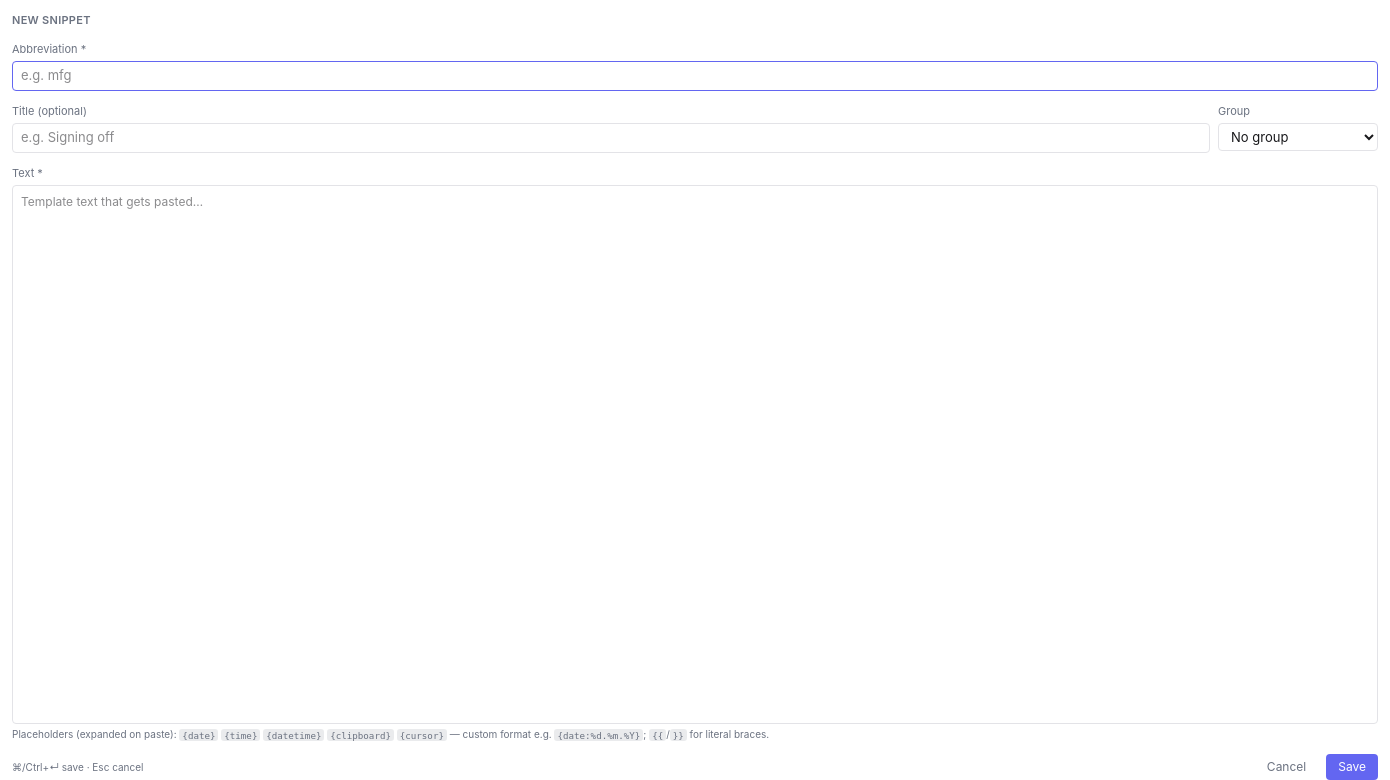
Test: SnippetEditor — validation › surfaces a backend failure instead of silently closing
Type "mfg" into the field with placeholder "e.g. mfg".
click(695, 76); type("mfg")  # box 12,61 -> 1378,90
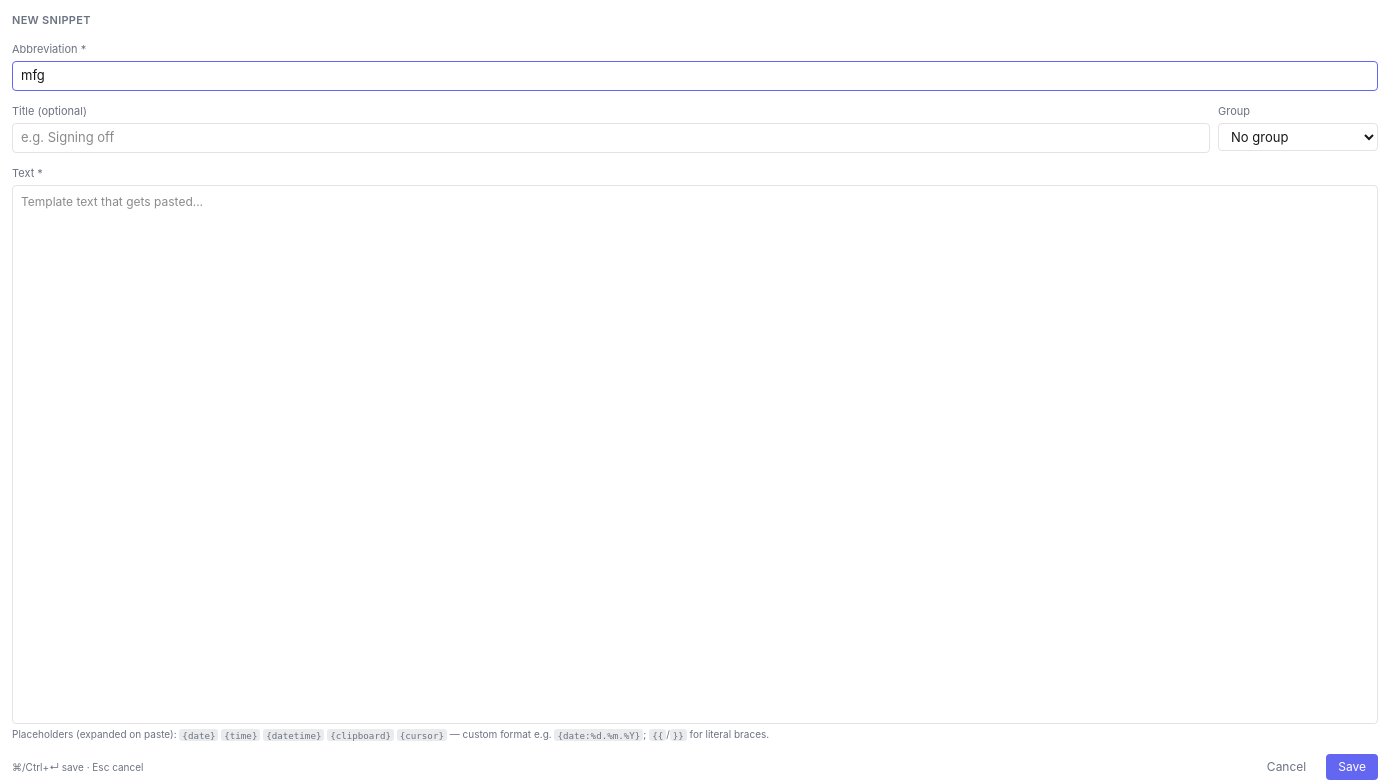
Type "body" into the text box with placeholder "Template text that gets pasted…".
click(695, 455); type("body")  # box 12,185 -> 1378,724
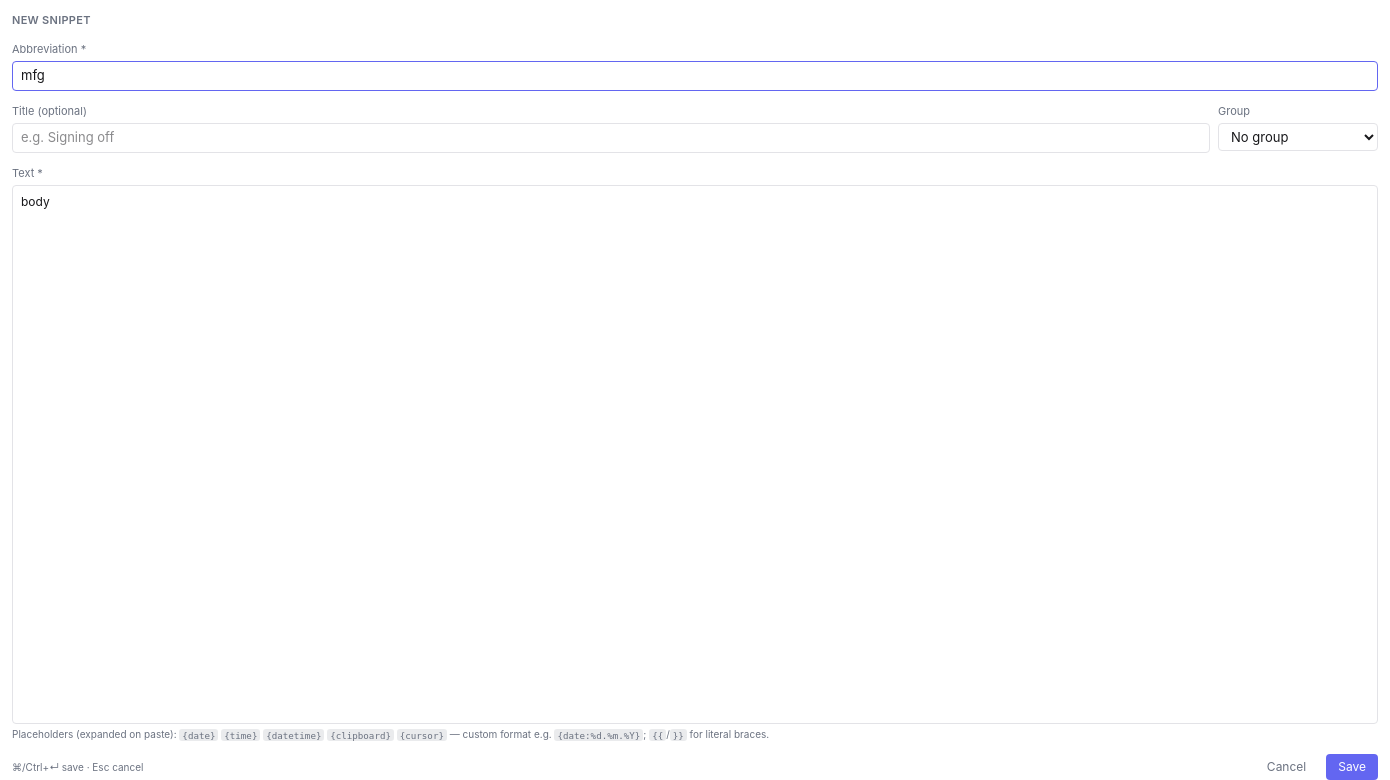
Click the button "Save".
click(1352, 767)  # box 1326,754 -> 1378,779
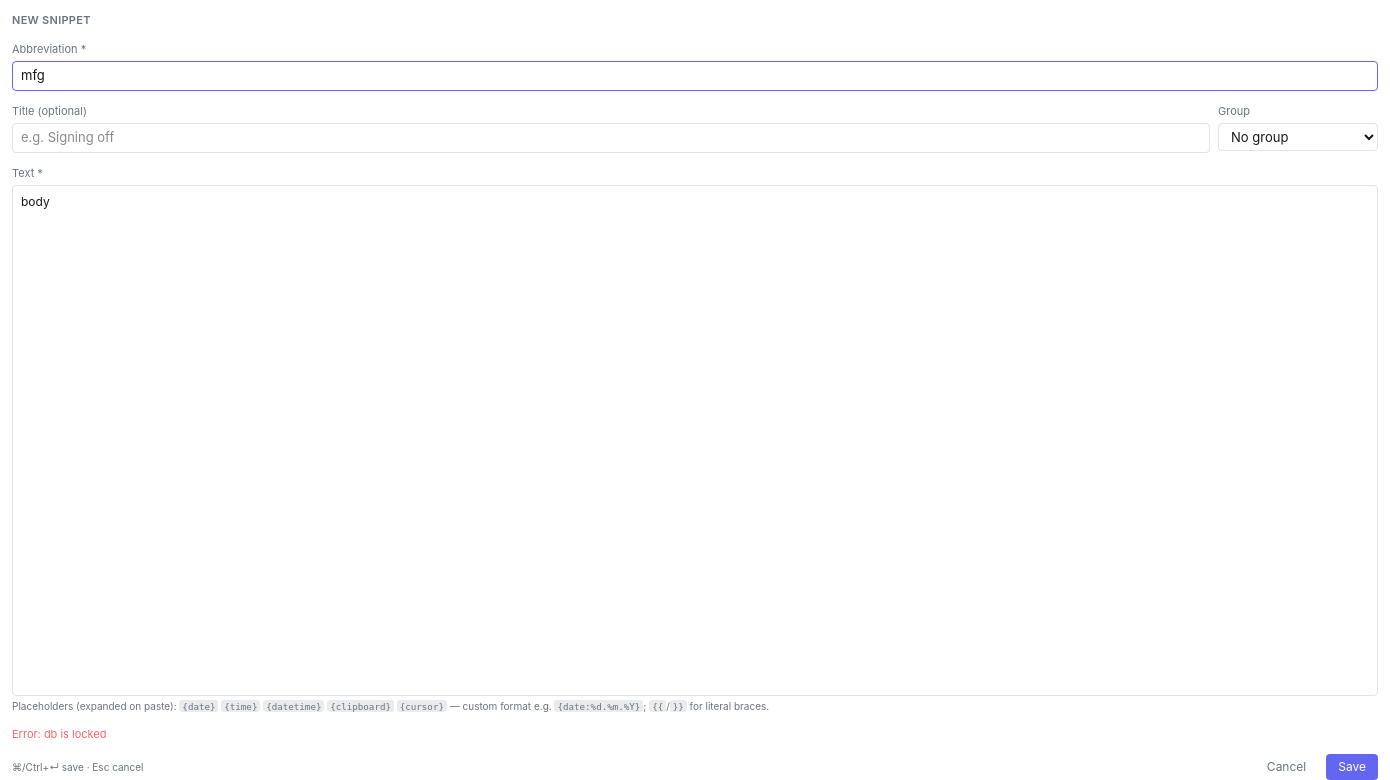
Expected: the text "Error: db is locked" is shown, 12,726 -> 106,740
